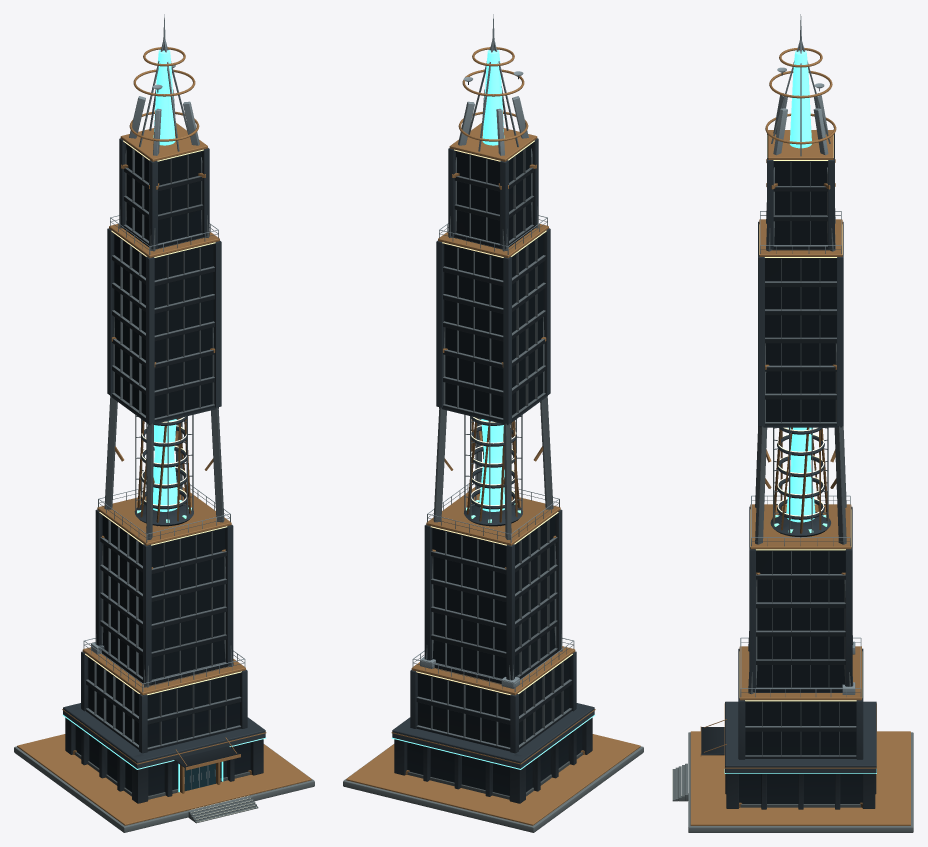
File: agent-spire.lod0.glb
3 renders of one model, left to right at view 1: azimuth 30°, elevation 25°; view 2: azimuth 150°, elevation 25°; view 3: azimuth 270°, elevation 25°, orthographic. The views are drawn at different scales.
Parts seen in each view (by area): view 1: structure, lobby; view 2: structure, lobby; view 3: structure, lobby.
Part boxes in pixels (<box>): structure: <box>14,14,314,832</box>; lobby: <box>75,725,250,795</box>; structure: <box>343,14,643,832</box>; lobby: <box>407,725,582,795</box>; structure: <box>672,14,913,832</box>; lobby: <box>739,774,862,803</box>.
Bounding box in the file's own units: 23 × 86.9 × 24.61.
